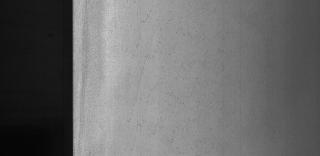silk spot: (130, 2, 198, 121)
